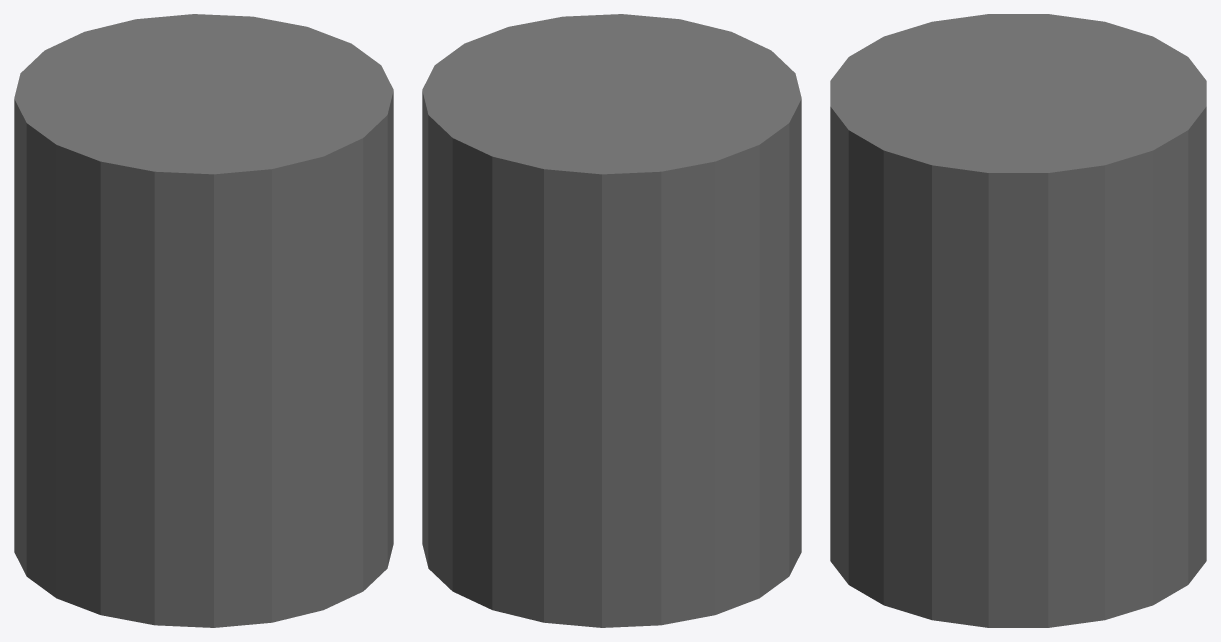
Rendered from dc_metro_roof_l_pillar.obj.
The picture shows the model from 3 angles, left to right: view 1: azimuth 30°, elevation 25°; view 2: azimuth 150°, elevation 25°; view 3: azimuth 270°, elevation 25°; orthographic projection.
Visible parts, largest first — view 1: cylinder; view 2: cylinder; view 3: cylinder.
Part boxes in pixels (<box>): cylinder: <box>14,14,393,627</box>; cylinder: <box>422,14,801,627</box>; cylinder: <box>830,14,1206,627</box>.
Size of the model in its own units: 0.75 by 1 by 0.75.
Materials: 1 (1 with a texture image).
